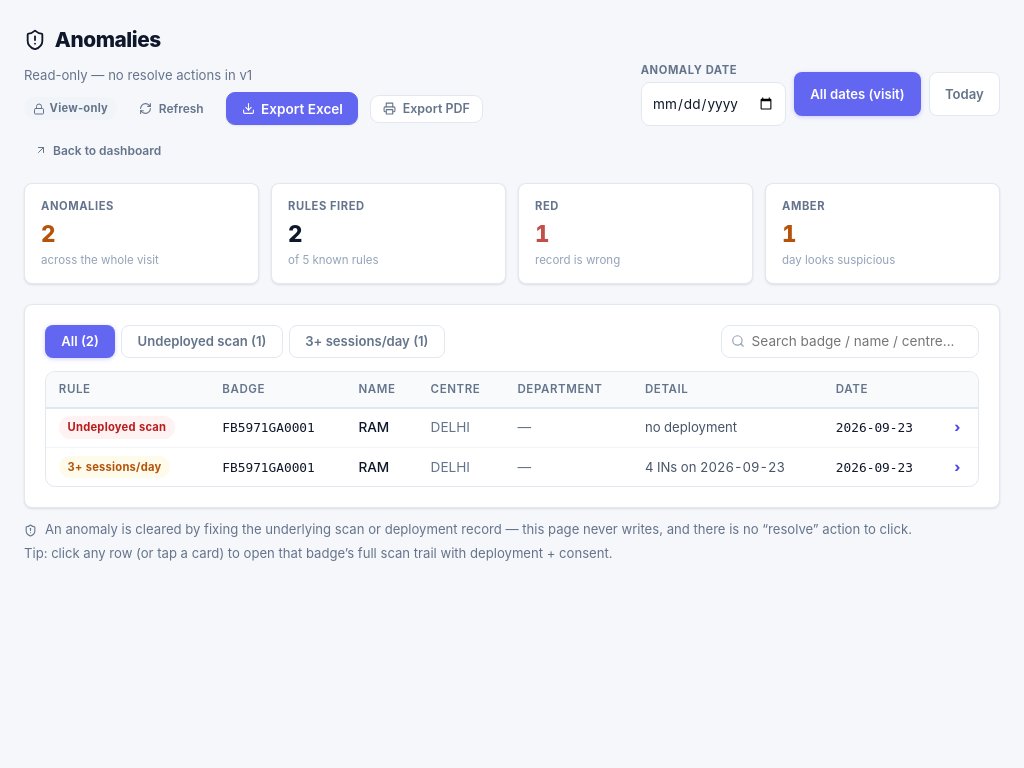
Test: drill-in — a row click opens the badge info trail › closes the popup and lists the badge’s other anomalies as related
Click the button with aria-label "Open details for row" at (512, 428), box [46,408,978,448]
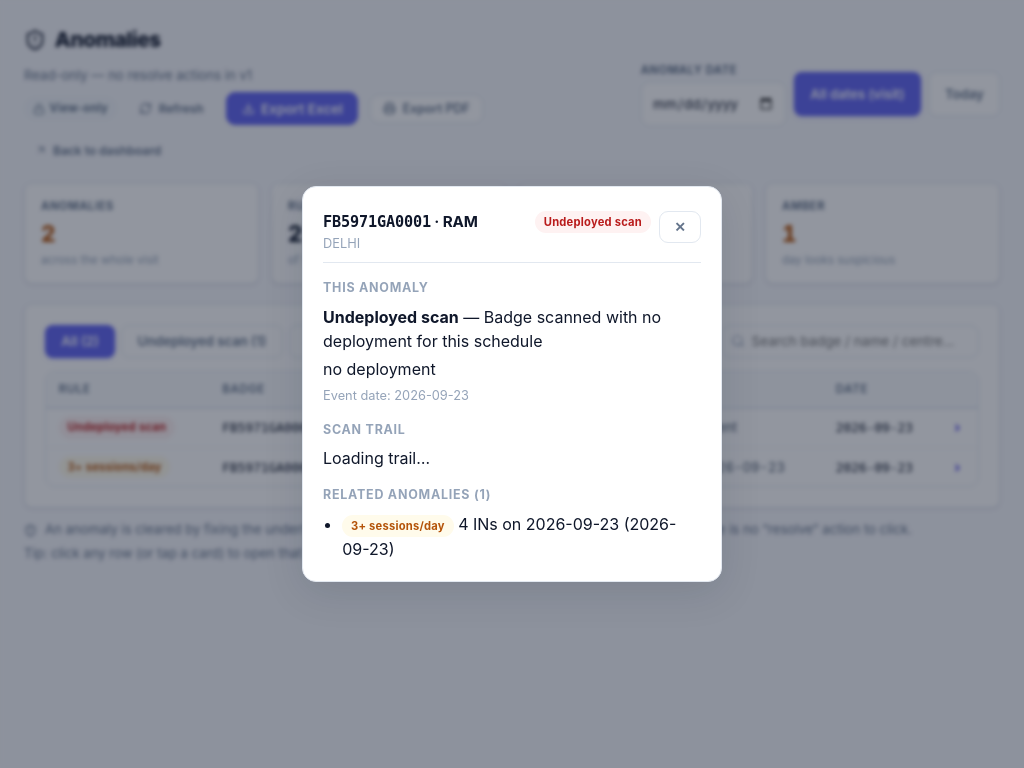
Expected: the dialog is shown, [302,186,722,582]
Expected: the heading "Related anomalies (1)" is shown, [323,487,491,502]
Expected: the list item "3+ sessions/day 4 INs on 2026-09-23 (2026-09-23)" is shown, [342,512,701,561]
Click the button named "Close anomaly details" at (680, 227), box [659,211,701,243]
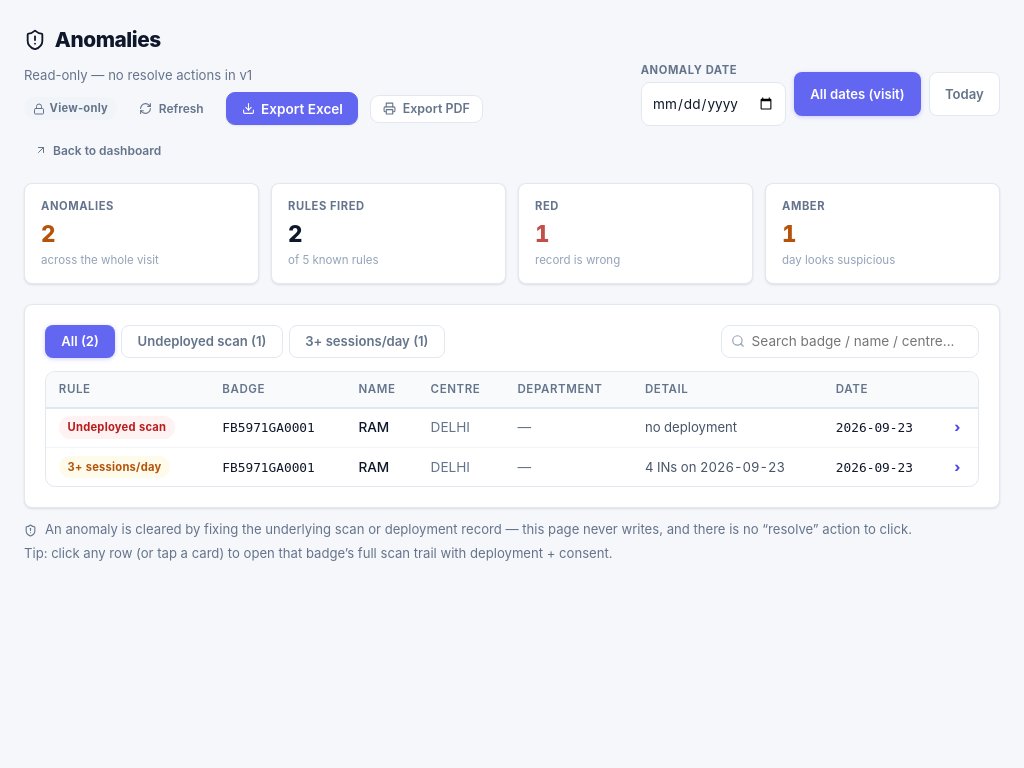
Expected: the dialog is gone
